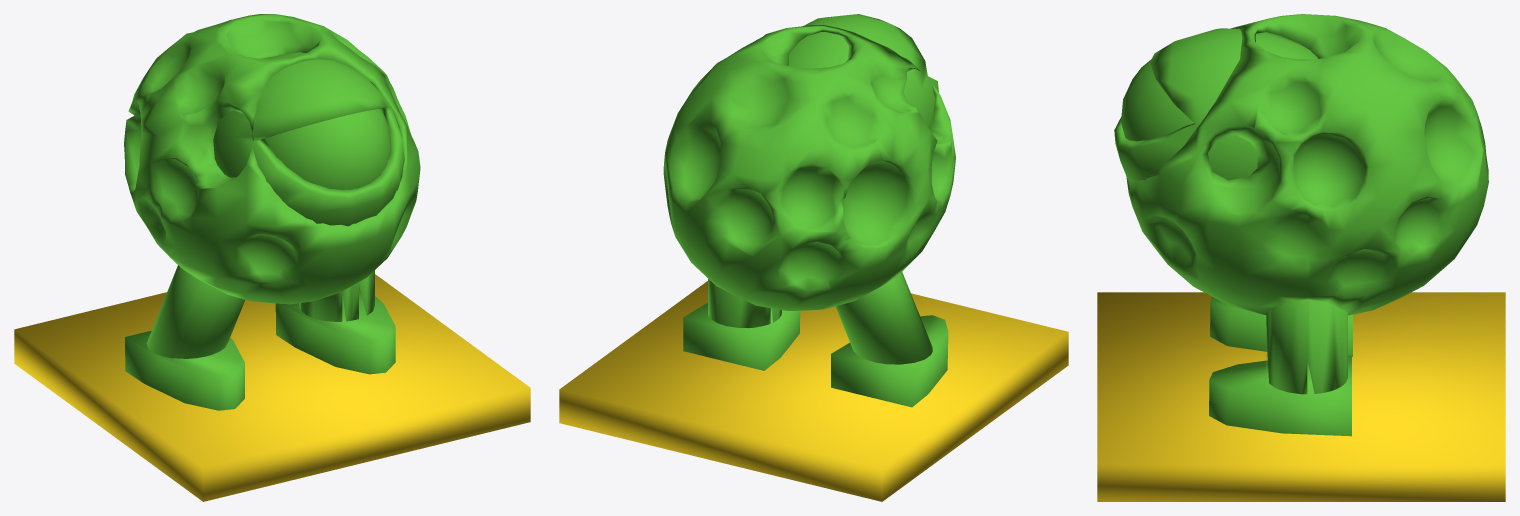
File: adult_1.glb
3 views of the same model, side by side, from view 1: azimuth 30°, elevation 25°; view 2: azimuth 150°, elevation 25°; view 3: azimuth 270°, elevation 25° (orthographic). The views are drawn at different scales.
Visible parts, largest first — view 1: figura, basetta; view 2: figura, basetta; view 3: figura, basetta.
Boxes of the visible parts, x1=… form: figura: x1=124, y1=14, x2=420, y2=410; basetta: x1=14, y1=274, x2=530, y2=501; figura: x1=663, y1=14, x2=955, y2=407; basetta: x1=559, y1=281, x2=1068, y2=501; figura: x1=1114, y1=14, x2=1488, y2=436; basetta: x1=1097, y1=292, x2=1505, y2=501.
Size of the model in its own units: 0.02 by 0.0206 by 0.02.
